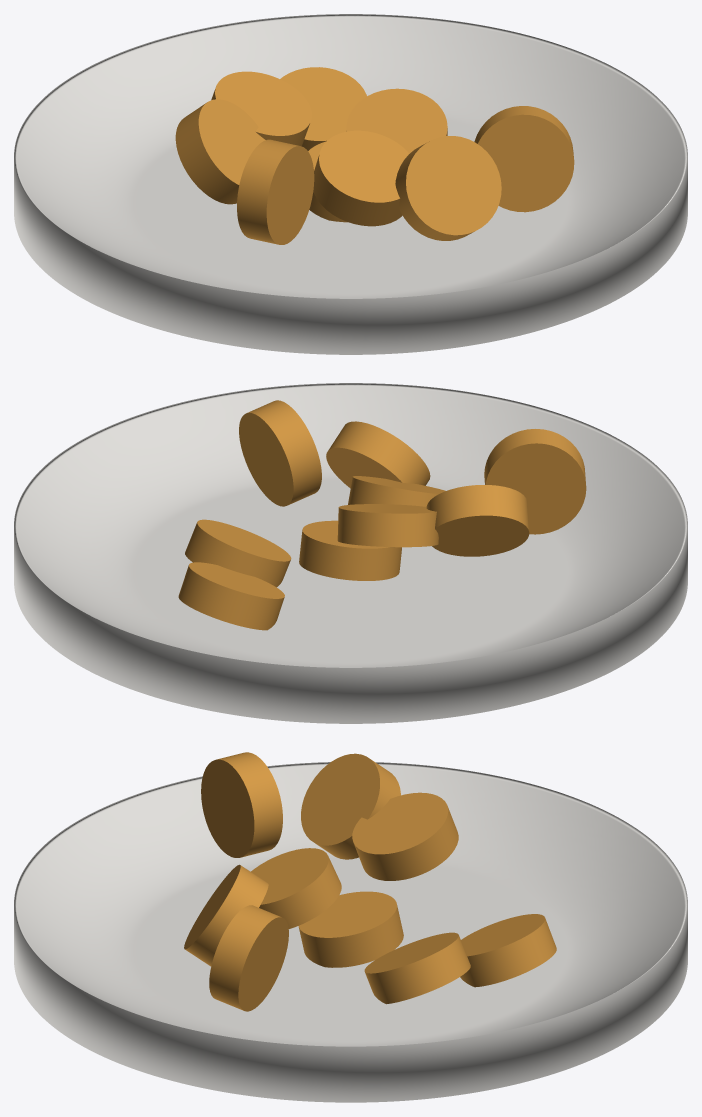
File: empanados-3-hero.glb
The picture shows the model from 3 angles, top to bottom: view 1: azimuth 30°, elevation 25°; view 2: azimuth 150°, elevation 25°; view 3: azimuth 270°, elevation 25°; orthographic projection.
Size of the model in its own units: 0.24 by 0.055 by 0.24.
